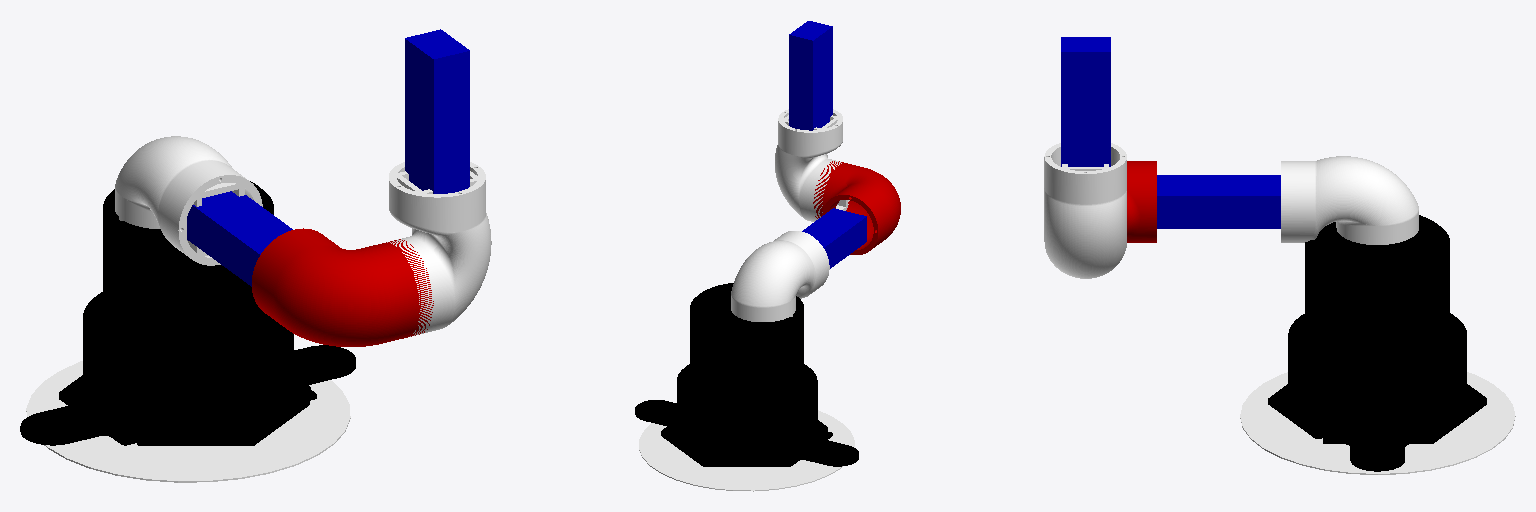
URDF robot description (node41):
<?xml version="1.0"?>
<robot  name="node41" >
 <material  name="blue" >
  <color  rgba="0 0 0.8 1.0" />
 </material>
 <material  name="red" >
  <color  rgba="0.8 0 0 1.0" />
 </material>
 <material  name="white" >
  <color  rgba="1.0 1.0 1.0 0.4" />
 </material>
 <material  name="black" >
  <color  rgba="0.0 0.0 0.0 1.0" />
 </material>
 <link  name="root_mod" >
  <visual >
   <origin  xyz="0 0 0"  rpy="0 0 0" />
   <material  name="white" />
   <geometry >
    <cylinder  length="0.001"  radius="0.1" />
   </geometry>
  </visual>
 </link>
 <link  name="baseMod_1" >
  <inertial >
   <origin  xyz="0.0 1.2212453270876722e-17 0.055"  rpy="1.5707963267948963 0.0 0.0" />
   <mass  value="1.245" />
   <inertia  iyz="1.5e-05"  ixx="0.002797"  ixz="-0.0"  ixy="-0.0"  izz="0.003107"  iyy="0.002417" />
  </inertial>
  <visual >
   <origin  xyz="0.0 1.2212453270876722e-17 0.055"  rpy="1.5707963267948963 0.0 0.0" />
   <material  name="black" />
   <geometry >
    <mesh  filename="./meshes/base-big-360.obj"  scale="0.001 0.001 0.001" />
   </geometry>
  </visual>
 </link>
 <joint  name="joint_1_fixed"  type="fixed" >
  <parent  link="root_mod" />
  <child  link="baseMod_1" />
  <origin  xyz="0.0 0.0 0.01"  rpy="0 0 0" />
  <limit  velocity="10"  upper="3.14"  effort="50"  lower="-3.14" />
 </joint>
 <link  name="connMod_2" >
  <inertial >
   <origin  xyz="0.0 4.440892098500626e-18 0.02"  rpy="1.5707963267948963 0.0 0.0" />
   <mass  value="0.263" />
   <inertia  iyz="-1.5e-05"  ixx="0.000226"  ixz="-0.0"  ixy="0.0"  izz="0.000125"  iyy="0.00023" />
  </inertial>
  <visual >
   <origin  xyz="0.0 4.440892098500626e-18 0.02"  rpy="1.5707963267948963 0.0 0.0" />
   <material  name="white" />
   <geometry >
    <mesh  filename="./meshes/90-connector.obj"  scale="0.001 0.001 0.001" />
   </geometry>
  </visual>
 </link>
 <joint  name="joint_2_revolute"  type="revolute" >
  <parent  link="baseMod_1" />
  <child  link="connMod_2" />
  <origin  xyz="-0.0175 2.964295475749168e-17 0.1335"  rpy="0 0 0" />
  <axis  xyz="0.0 0.0 1.0" />
  <limit  effort="50"  upper="3.14"  velocity="10"  lower="-3.14" />
 </joint>
 <transmission  name="act_joint_2_revolute" >
  <type  xmltext="SimpleTransmission" >
   SimpleTransmission
  </type>
  <actuator  name="trans_joint_2_revolute" >
   <mechanicalreduction  xmltext="1" >
    1
   </mechanicalreduction>
  </actuator>
  <joint  name="joint_2_revolute" />
 </transmission>
 <link  name="linkMod_3" >
  <inertial >
   <origin  xyz="-1.3766765505351941e-17 0.062 0.0"  rpy="0.0 0.0 -1.5707963267948963" />
   <mass  value="0.05" />
   <inertia  iyz="0.0"  ixx="6.5e-05"  ixz="0.0"  ixy="0.0"  izz="0.000206"  iyy="0.000206" />
  </inertial>
  <visual >
   <origin  xyz="-1.3766765505351941e-17 0.062 0.0"  rpy="0.0 0.0 -1.5707963267948963" />
   <material  name="blue" />
   <geometry >
    <mesh  filename="./meshes/link-100.obj"  scale="0.001 0.001 0.001" />
   </geometry>
  </visual>
 </link>
 <joint  name="joint_3_fixed"  type="fixed" >
  <parent  link="connMod_2" />
  <child  link="linkMod_3" />
  <origin  xyz="0.0 -0.05999999999999999 0.020000000000000014"  rpy="0 0 0" />
  <axis  xyz="0.0 -1.0 0.0" />
  <limit  velocity="10"  upper="3.14"  effort="50"  lower="-3.14" />
 </joint>
 <link  name="jointMod_4" >
  <inertial >
   <origin  xyz="-1.1546319456101627e-17 -0.052 0.0"  rpy="0.0 0.0 1.5707963267948963" />
   <mass  value="0.184" />
   <inertia  iyz="0.0"  ixx="7.8e-05"  ixz="-0.0"  ixy="-1.3e-05"  izz="9e-05"  iyy="7.8e-05" />
  </inertial>
  <visual >
   <origin  xyz="-1.1546319456101627e-17 -0.052 0.0"  rpy="0.0 0.0 1.5707963267948963" />
   <material  name="red" />
   <geometry >
    <mesh  filename="./meshes/90-joint.obj"  scale="0.001 0.001 0.001" />
   </geometry>
  </visual>
 </link>
 <joint  name="joint_4_fixed"  type="fixed" >
  <parent  link="linkMod_3" />
  <child  link="jointMod_4" />
  <origin  xyz="2.2204460492503132e-17 -0.1 0.0"  rpy="0 0 0" />
  <axis  xyz="0.0 -1.0 0.0" />
  <limit  effort="50"  upper="3.14"  velocity="10"  lower="-3.14" />
 </joint>
 <link  name="connMod_5" >
  <inertial >
   <origin  xyz="0.02 4.440892098500626e-18 0.0"  rpy="0.0 0.0 -1.5707963267948963" />
   <mass  value="0.263" />
   <inertia  iyz="-1.5e-05"  ixx="0.000226"  ixz="-0.0"  ixy="0.0"  izz="0.000125"  iyy="0.00023" />
  </inertial>
  <visual >
   <origin  xyz="0.02 4.440892098500626e-18 0.0"  rpy="0.0 0.0 -1.5707963267948963" />
   <material  name="white" />
   <geometry >
    <mesh  filename="./meshes/90-connector.obj"  scale="0.001 0.001 0.001" />
   </geometry>
  </visual>
 </link>
 <joint  name="joint_5_revolute"  type="revolute" >
  <parent  link="jointMod_4" />
  <child  link="connMod_5" />
  <origin  xyz="0.051999999999999984 -0.05200000000000001 0.0"  rpy="0 0 0" />
  <axis  xyz="1.0 -0.0 0.0" />
  <limit  velocity="10"  upper="3.14"  effort="50"  lower="-3.14" />
 </joint>
 <transmission  name="act_joint_5_revolute" >
  <type  xmltext="SimpleTransmission" >
   SimpleTransmission
  </type>
  <actuator  name="trans_joint_5_revolute" >
   <mechanicalreduction  xmltext="1" >
    1
   </mechanicalreduction>
  </actuator>
  <joint  name="joint_5_revolute" />
 </transmission>
 <link  name="linkMod_6" >
  <inertial >
   <origin  xyz="-1.3766765505351941e-17 0.0 -0.062"  rpy="0.0 -1.5707963267948966 0.0" />
   <mass  value="0.05" />
   <inertia  iyz="0.0"  ixx="6.5e-05"  ixz="0.0"  ixy="0.0"  izz="0.000206"  iyy="0.000206" />
  </inertial>
  <visual >
   <origin  xyz="-1.3766765505351941e-17 0.0 -0.062"  rpy="0.0 -1.5707963267948966 0.0" />
   <material  name="blue" />
   <geometry >
    <mesh  filename="./meshes/link-100.obj"  scale="0.001 0.001 0.001" />
   </geometry>
  </visual>
 </link>
 <joint  name="joint_6_fixed"  type="fixed" >
  <parent  link="connMod_5" />
  <child  link="linkMod_6" />
  <origin  xyz="0.02 4.440892098500626e-18 0.06"  rpy="0 0 0" />
  <axis  xyz="0.0 0.0 1.0" />
  <limit  effort="50"  upper="3.14"  velocity="10"  lower="-3.14" />
 </joint>
 <link  name="eef" />
 <joint  name="eef_joint"  type="fixed" >
  <parent  link="linkMod_6" />
  <child  link="eef" />
  <origin  xyz="2.2204460492503132e-17 0.0 0.1"  rpy="0 0 0" />
  <axis  xyz="0.0 0.0 1.0" />
  <limit  velocity="10"  upper="3.14"  effort="50"  lower="-3.14" />
 </joint>
</robot>

--- Facts derived from the render (not from the file) ---
Views: 3 orthographic renders of the robot side by side, from view 1: azimuth 30°, elevation 25°; view 2: azimuth 150°, elevation 25°; view 3: azimuth 270°, elevation 25°.
Model node41 with 8 links and 7 joints (2 revolute, 5 fixed), rooted at root_mod, posed every joint at zero.
Links seen in each view (by area): view 1: baseMod_1, jointMod_4, root_mod, connMod_5, linkMod_6, connMod_2, linkMod_3; view 2: baseMod_1, connMod_2, root_mod, connMod_5, linkMod_6, jointMod_4, linkMod_3; view 3: baseMod_1, connMod_2, root_mod, connMod_5, linkMod_3, linkMod_6, jointMod_4.
Link boxes in pixels (<box>): baseMod_1: <box>20,181,355,445</box>; jointMod_4: <box>252,228,433,346</box>; root_mod: <box>26,361,350,482</box>; connMod_5: <box>387,162,491,336</box>; linkMod_6: <box>405,29,469,193</box>; connMod_2: <box>115,136,262,265</box>; linkMod_3: <box>187,191,292,286</box>; baseMod_1: <box>635,283,858,466</box>; connMod_2: <box>731,231,829,321</box>; root_mod: <box>639,410,854,491</box>; connMod_5: <box>775,109,849,221</box>; linkMod_6: <box>789,21,832,130</box>; jointMod_4: <box>813,161,900,254</box>; linkMod_3: <box>802,208,866,268</box>; baseMod_1: <box>1268,215,1486,471</box>; connMod_2: <box>1281,156,1418,244</box>; root_mod: <box>1240,372,1515,474</box>; connMod_5: <box>1044,143,1126,278</box>; linkMod_3: <box>1157,175,1280,228</box>; linkMod_6: <box>1061,37,1110,166</box>; jointMod_4: <box>1127,161,1156,242</box>.
Size in the robot's own frame: 0.2326 by 0.342 by 0.324 metres.
6 mesh visuals loaded from 4 distinct referenced files (4 OBJ).